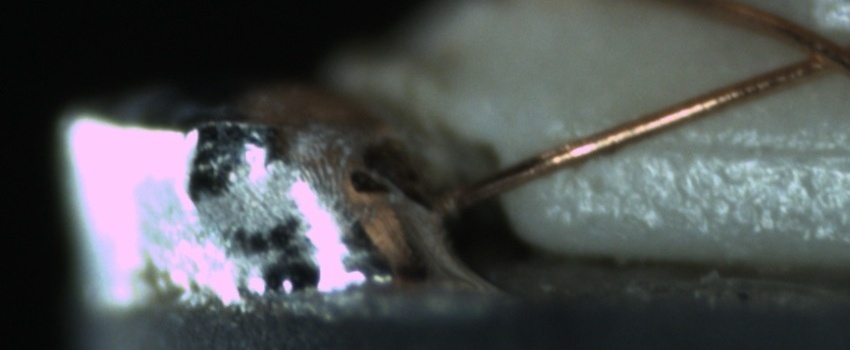CL: (775, 18, 848, 82)
DL: (626, 113, 848, 183)
